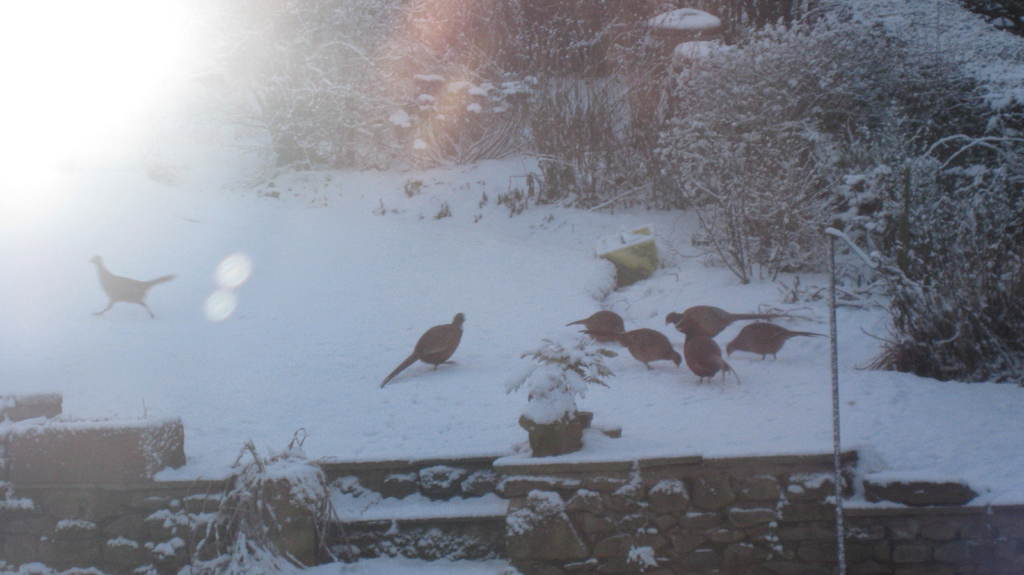Animal: (380, 312, 466, 386), (92, 259, 175, 320), (583, 327, 678, 371), (726, 319, 822, 360)
